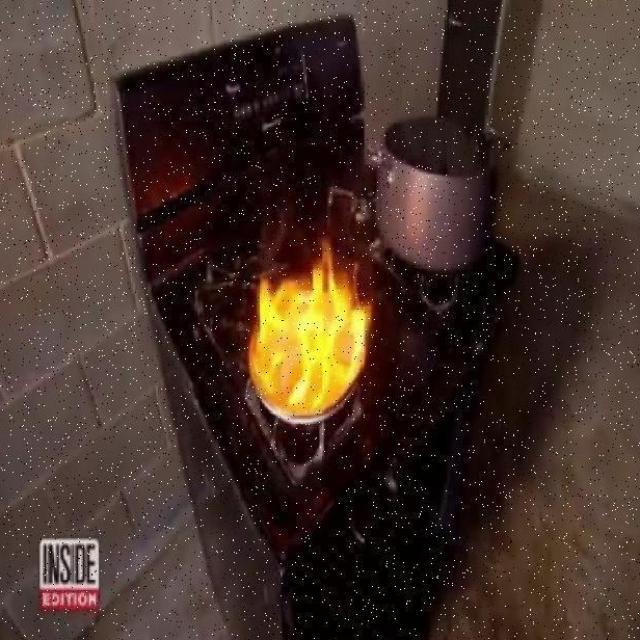smoke: (243, 252, 374, 417)
